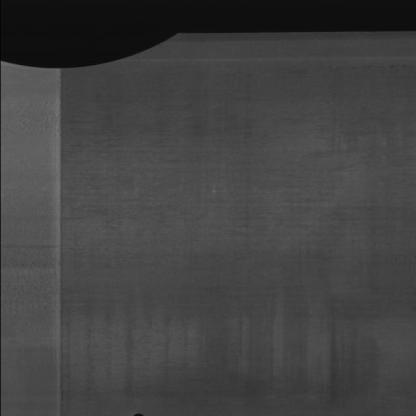crescent_gap: (0, 30, 187, 74)
punching_hole: (131, 412, 145, 416)
welding_line: (51, 65, 82, 416)
